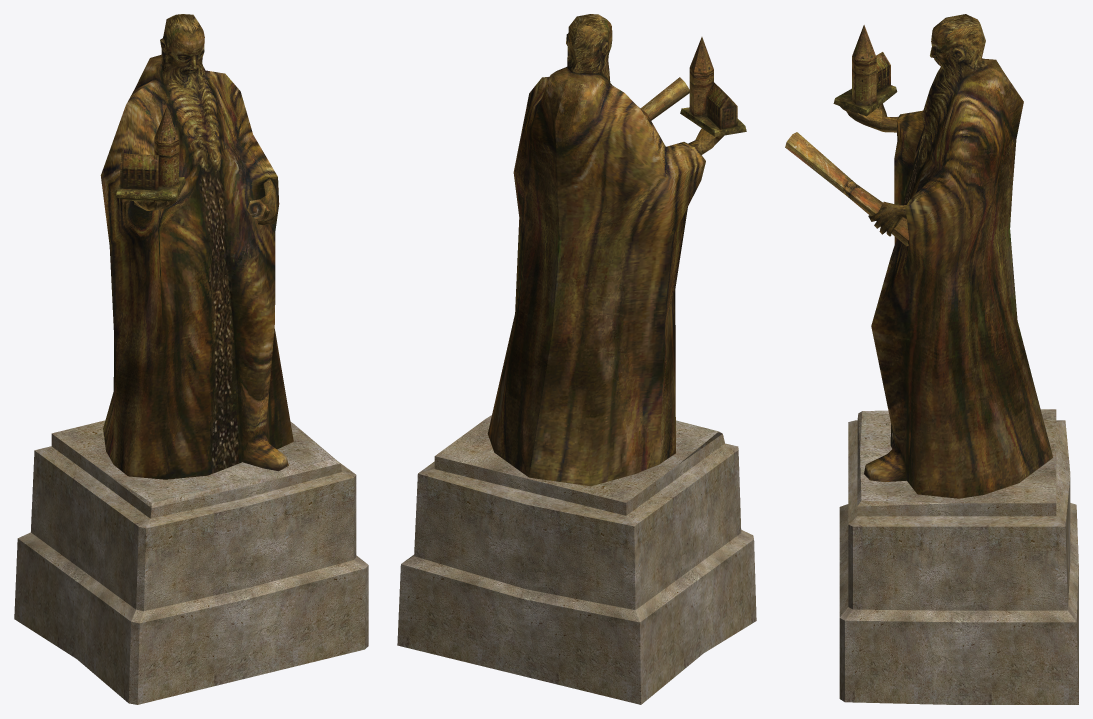
Rendered from Статуя Годрика.FBX.
The picture shows the model from 3 angles, left to right: view 1: azimuth 30°, elevation 25°; view 2: azimuth 150°, elevation 25°; view 3: azimuth 270°, elevation 25°; orthographic projection.
Visible parts, largest first — view 1: Group001; view 2: Group001; view 3: Group001.
Part boxes in pixels (<box>): Group001: <box>14,14,368,704</box>; Group001: <box>397,14,756,704</box>; Group001: <box>785,14,1078,704</box>.
Bounding box in the file's own units: 183 × 440 × 188.
